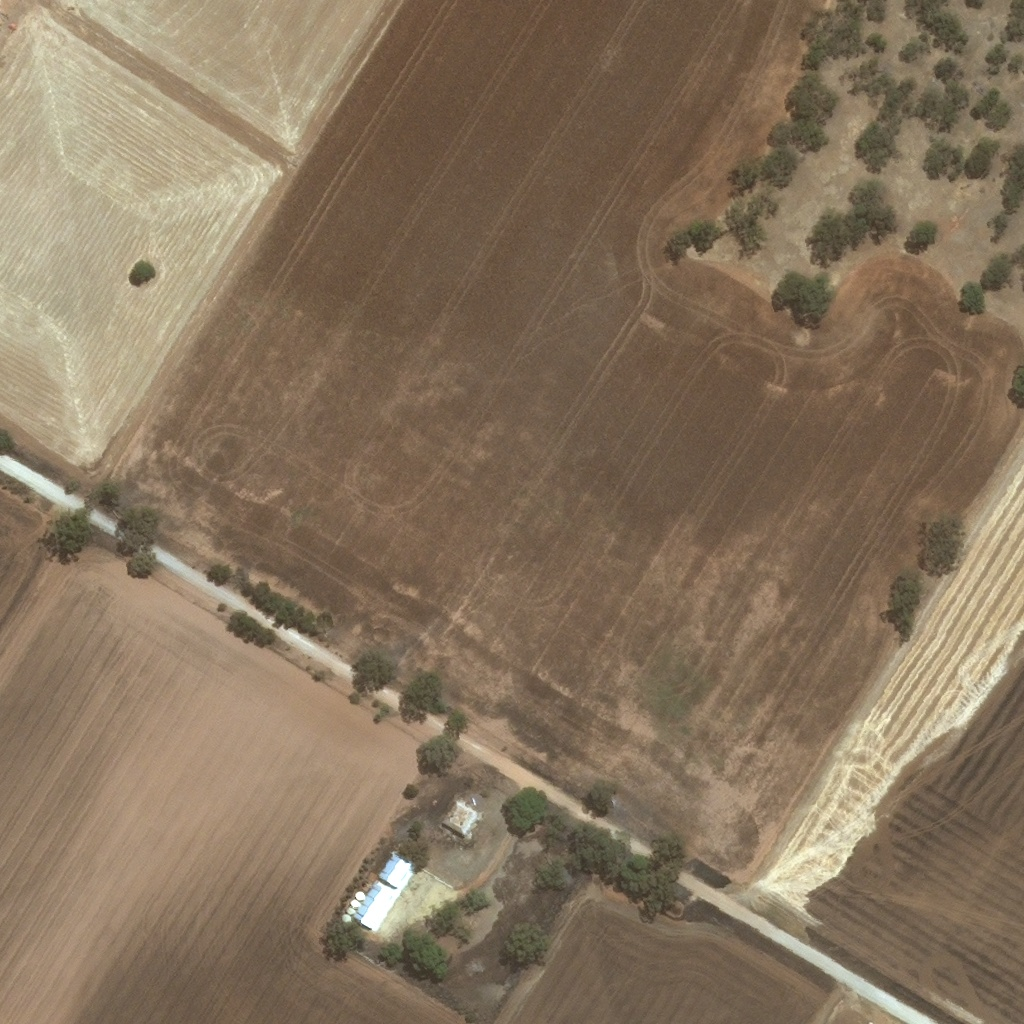0 no-damage: (349, 849, 418, 932), (440, 797, 481, 839), (349, 898, 361, 909), (354, 890, 365, 900)
